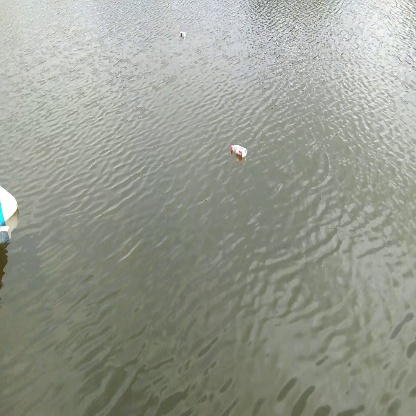bottle: (227, 141, 252, 161)
